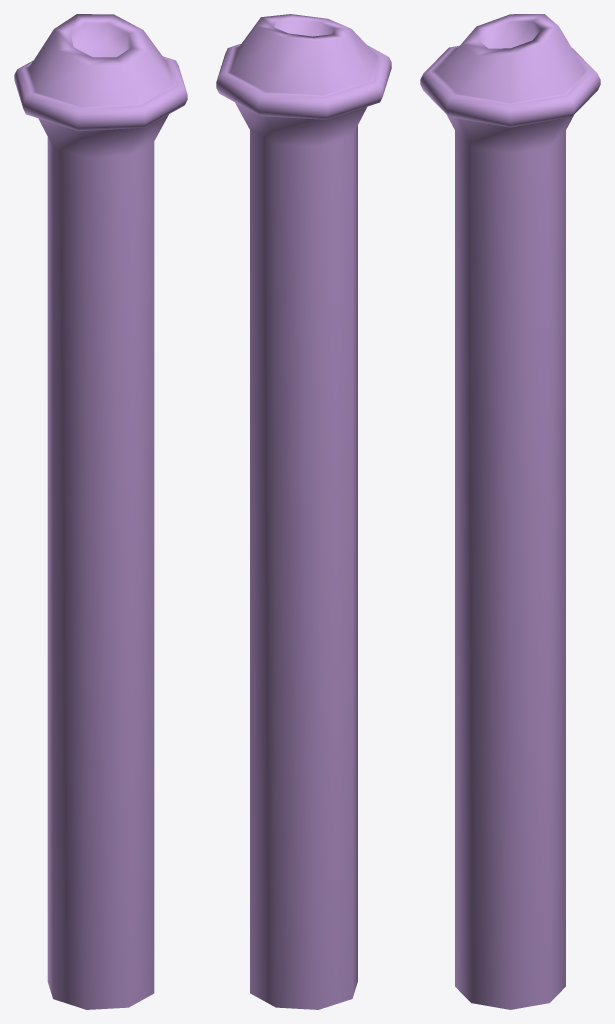
The model's file is G_Background_Exhuast_A.fbx.
The picture shows the model from 3 angles, left to right: view 1: azimuth 30°, elevation 25°; view 2: azimuth 150°, elevation 25°; view 3: azimuth 270°, elevation 25°; orthographic projection.
Visible parts, largest first — view 1: G_Background_Exhuast_A; view 2: G_Background_Exhuast_A; view 3: G_Background_Exhuast_A.
Boxes of the visible parts, x1,y1,x2,y2 form: G_Background_Exhuast_A: (14,14,187,1009); G_Background_Exhuast_A: (216,14,391,1009); G_Background_Exhuast_A: (420,14,600,1009).
Bounding box in the file's own units: 324 × 1907 × 324.
